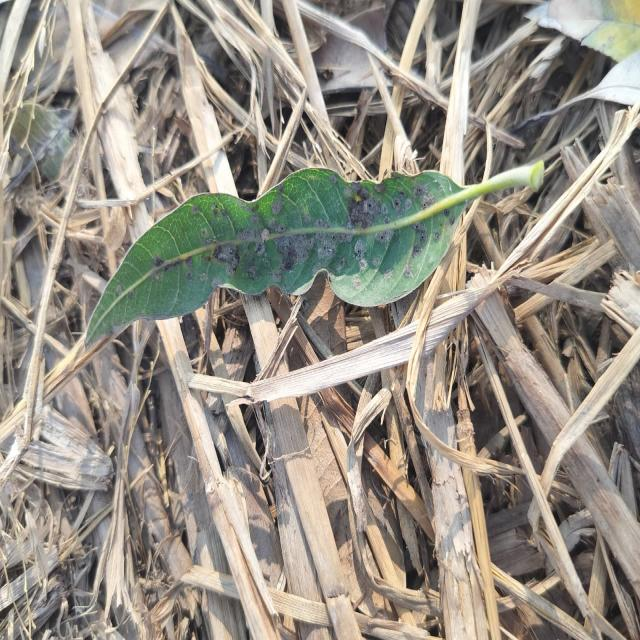Powdery Mildew: (310, 218, 347, 264), (364, 199, 395, 241), (217, 241, 245, 271)
